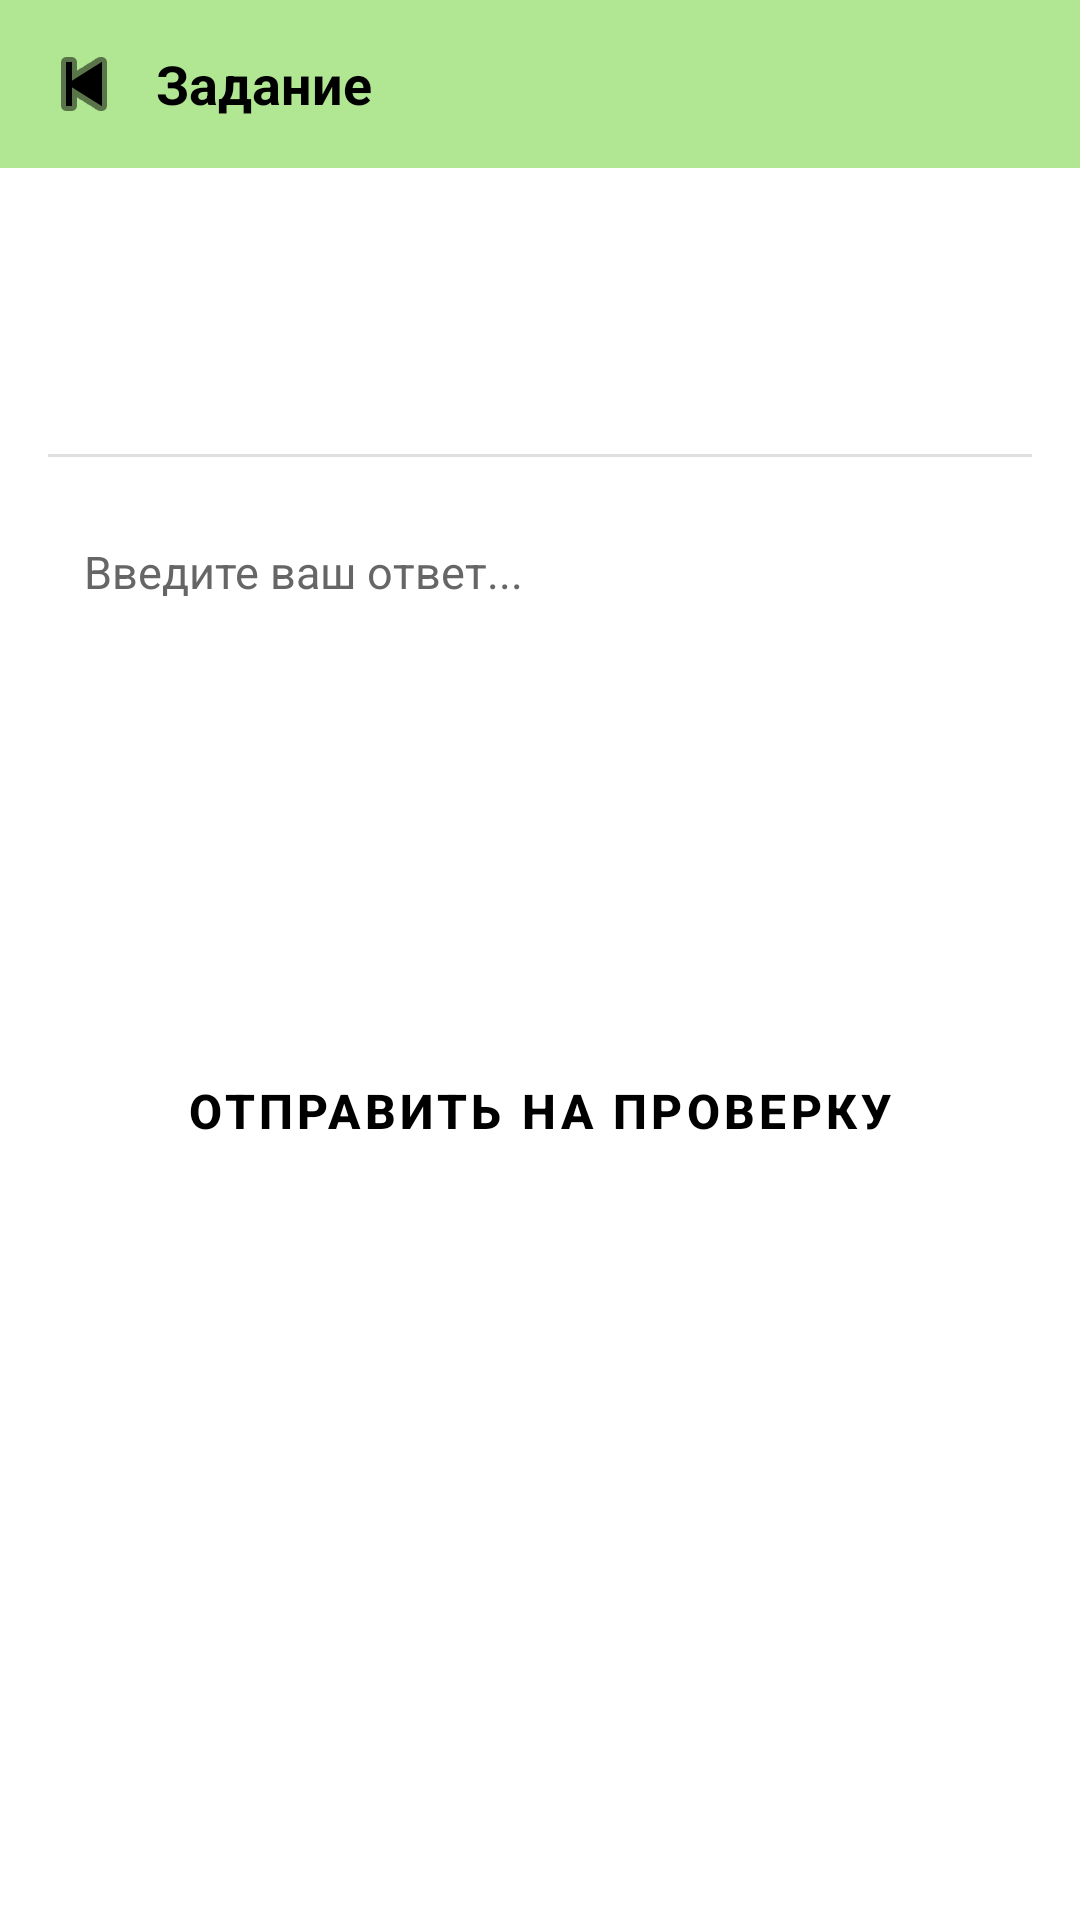

Icons on this 1080 × 1920 Android screen, each with its box as [x1, y1, x2, y2]:
Назад: [61, 57, 107, 111]
